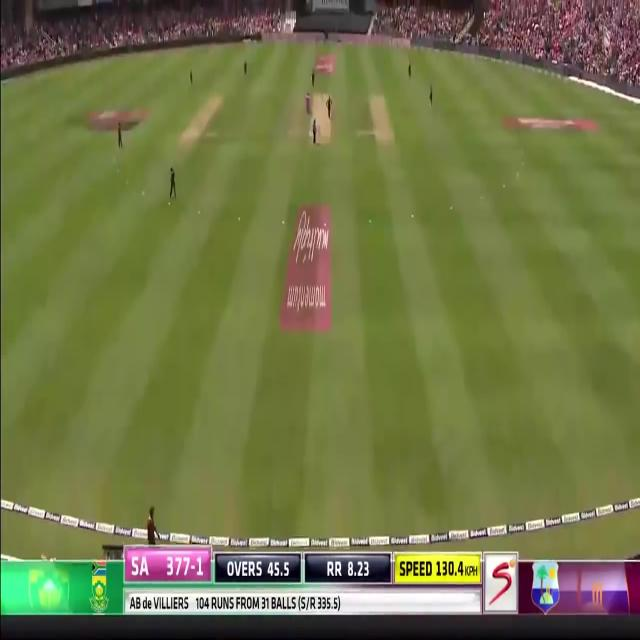Fielder: (139, 504, 164, 546)
